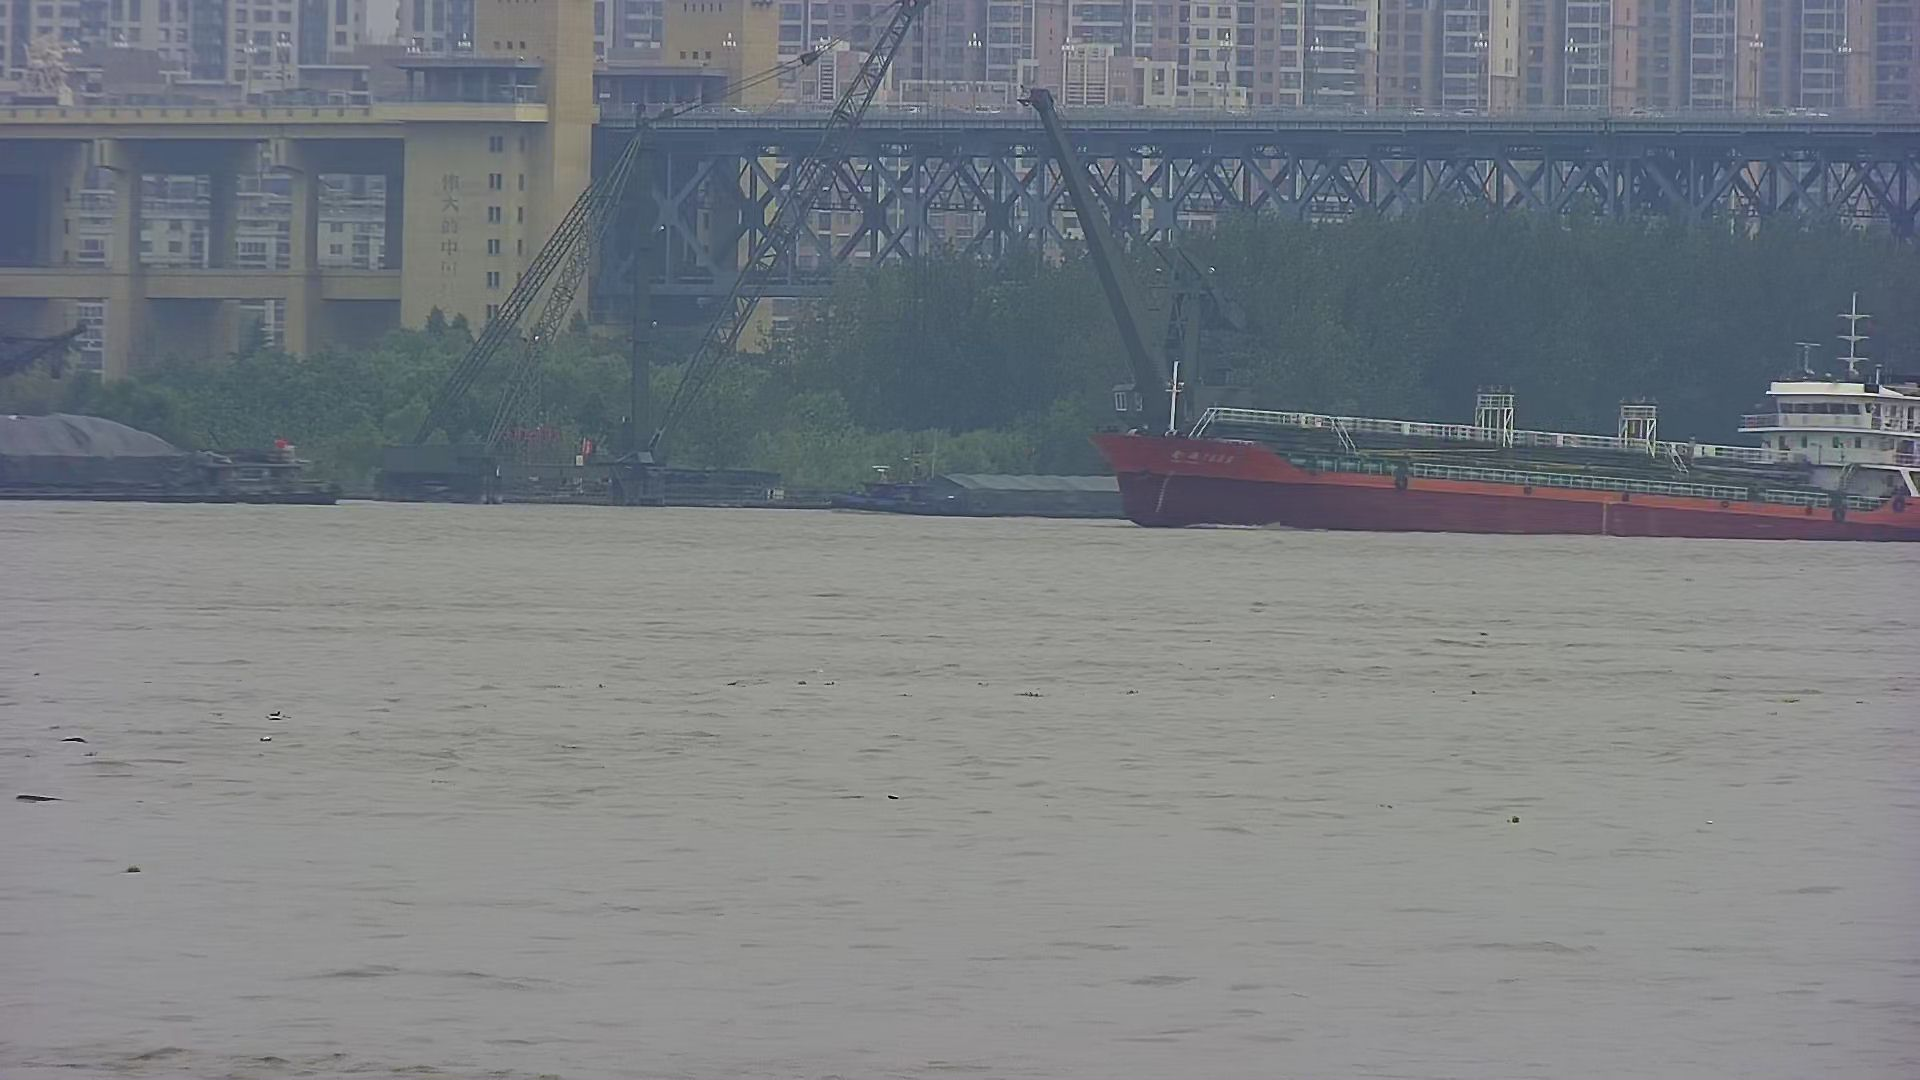harbor: (3, 404, 338, 509)
ship: (1095, 285, 1913, 546)
